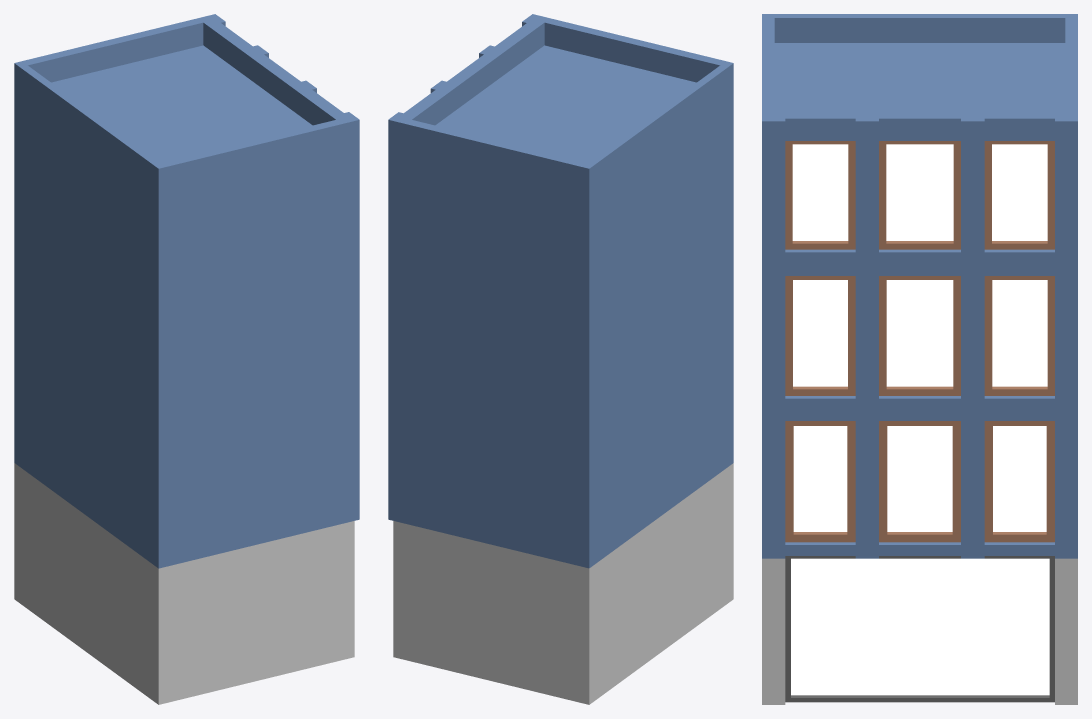
File: House 2.4.fbx
3 renders of one model, left to right at view 1: azimuth 30°, elevation 25°; view 2: azimuth 150°, elevation 25°; view 3: azimuth 270°, elevation 25°, orthographic. The views are drawn at different scales.
Visible parts, largest first — view 1: House 2.004; view 2: House 2.004; view 3: House 2.004.
Boxes of the visible parts, x1=… form: House 2.004: x1=14, y1=14, x2=359, y2=704; House 2.004: x1=388, y1=14, x2=733, y2=704; House 2.004: x1=762, y1=14, x2=1077, y2=704.
Size of the model in its own units: 804 by 2049 by 1001.
